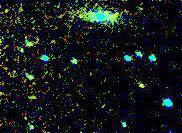star: (0, 0, 21, 24)
